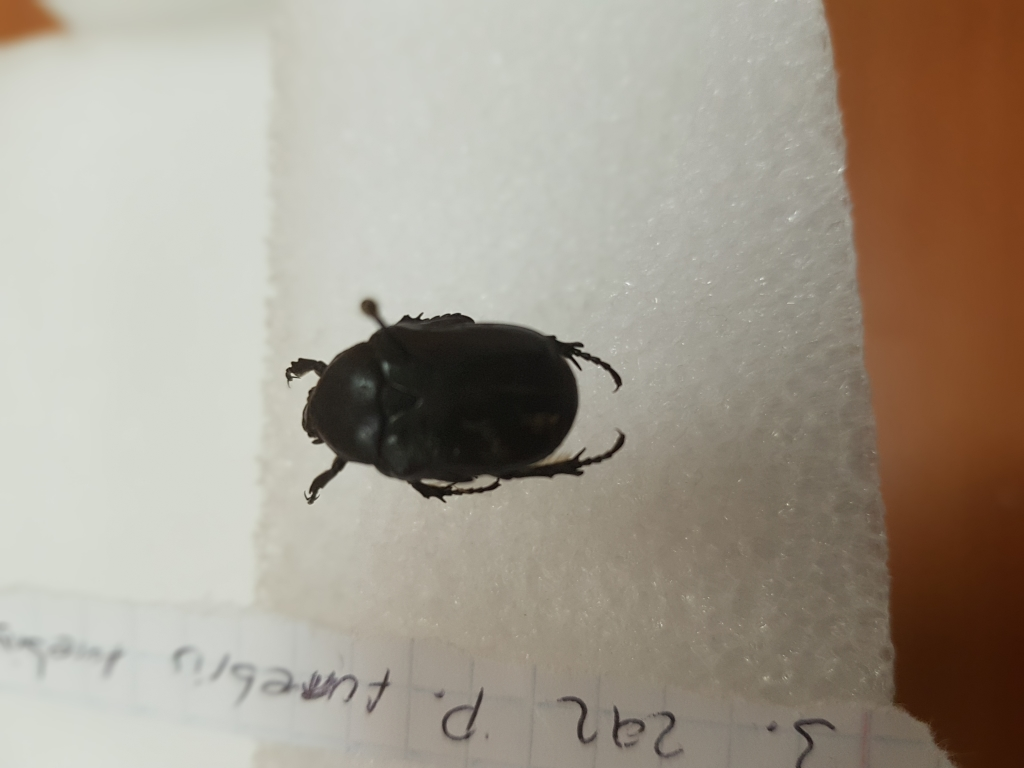Protaetia_funebris_funebris: (270, 307, 644, 507)
